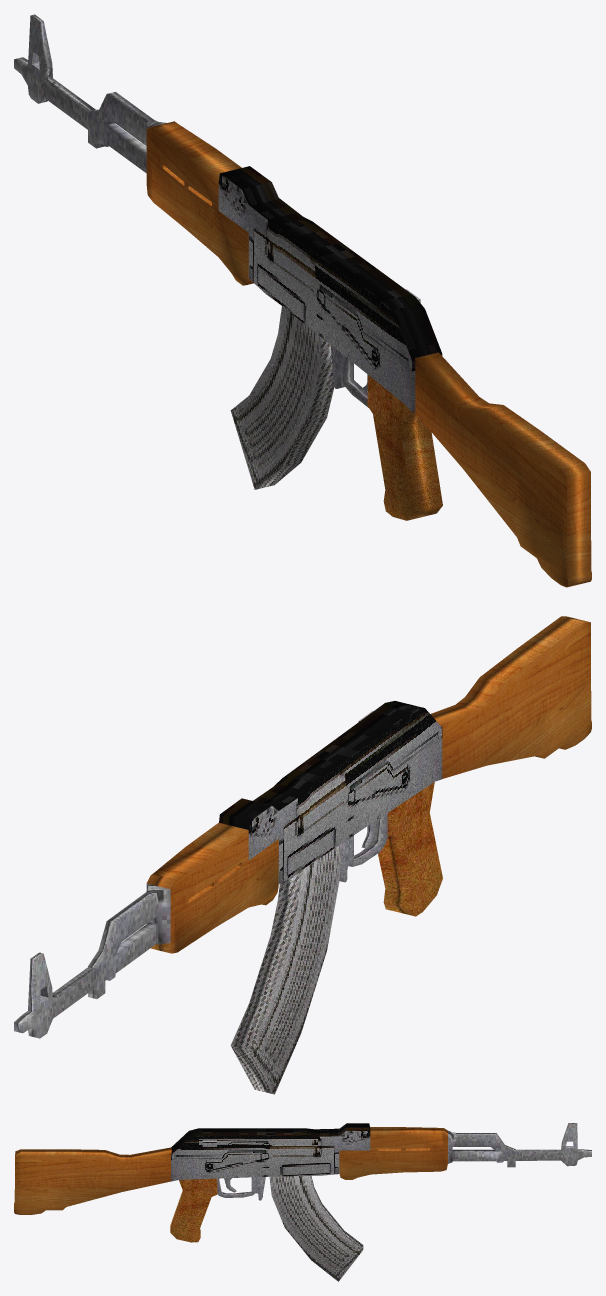
The picture shows the model from 3 angles, top to bottom: view 1: azimuth 30°, elevation 25°; view 2: azimuth 150°, elevation 25°; view 3: azimuth 270°, elevation 25°; orthographic projection. The views are drawn at different scales.
Visible parts, largest first — view 1: Main, Stock, Barrel, Magazine, Trigger Guard; view 2: Main, Barrel, Stock, Magazine, Trigger Guard; view 3: Main, Stock, Barrel, Magazine, Cube, Trigger Guard.
Part boxes in pixels (bbox=[...]): Main: bbox=[218, 166, 442, 520]; Stock: bbox=[414, 352, 591, 587]; Barrel: bbox=[14, 14, 253, 285]; Magazine: bbox=[230, 306, 334, 489]; Trigger Guard: bbox=[330, 345, 368, 407]; Main: bbox=[219, 701, 442, 916]; Barrel: bbox=[14, 822, 278, 1038]; Stock: bbox=[430, 616, 591, 778]; Magazine: bbox=[230, 844, 341, 1094]; Trigger Guard: bbox=[339, 813, 387, 882]; Main: bbox=[170, 1123, 370, 1242]; Stock: bbox=[14, 1147, 171, 1214]; Barrel: bbox=[339, 1123, 591, 1179]; Magazine: bbox=[269, 1175, 363, 1281]; Cube: bbox=[199, 1139, 317, 1146]; Trigger Guard: bbox=[217, 1177, 265, 1200].
Size of the model in its own units: 0.195 by 1.44 by 4.86.
3 materials, 3 textured.
